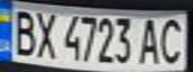2: (97, 13, 118, 64)
3: (112, 13, 136, 64)
4: (57, 11, 81, 62)
7: (78, 12, 96, 63)
A: (136, 16, 163, 65)
B: (6, 6, 39, 57)
C: (154, 15, 187, 65)
X: (30, 8, 60, 60)
